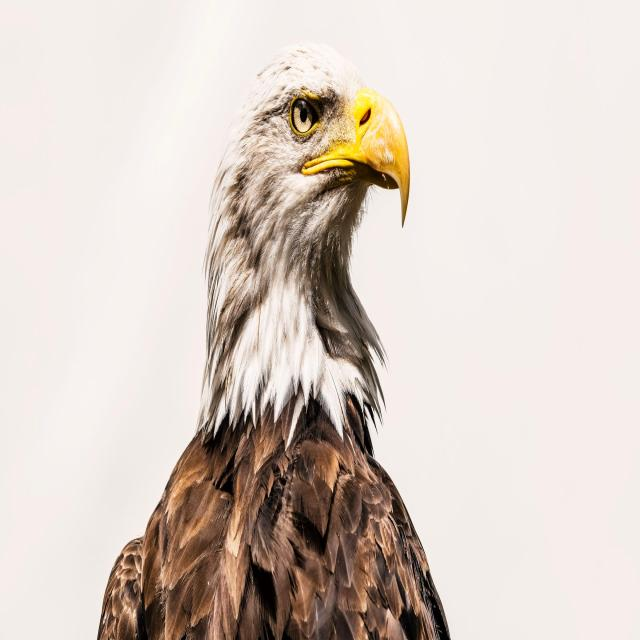eagle: (98, 47, 449, 639)
